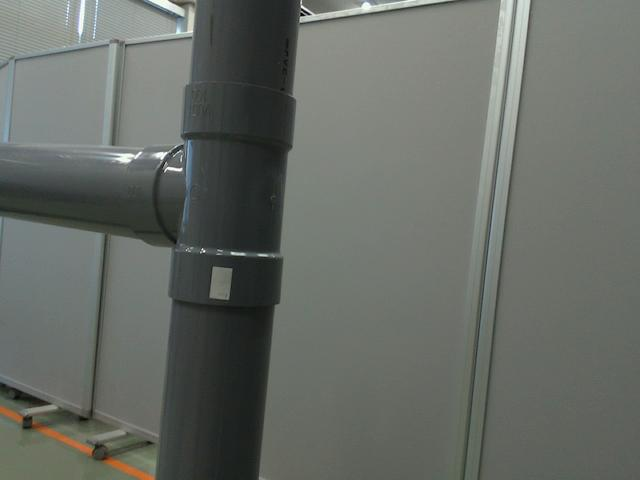junction: (140, 91, 298, 317)
